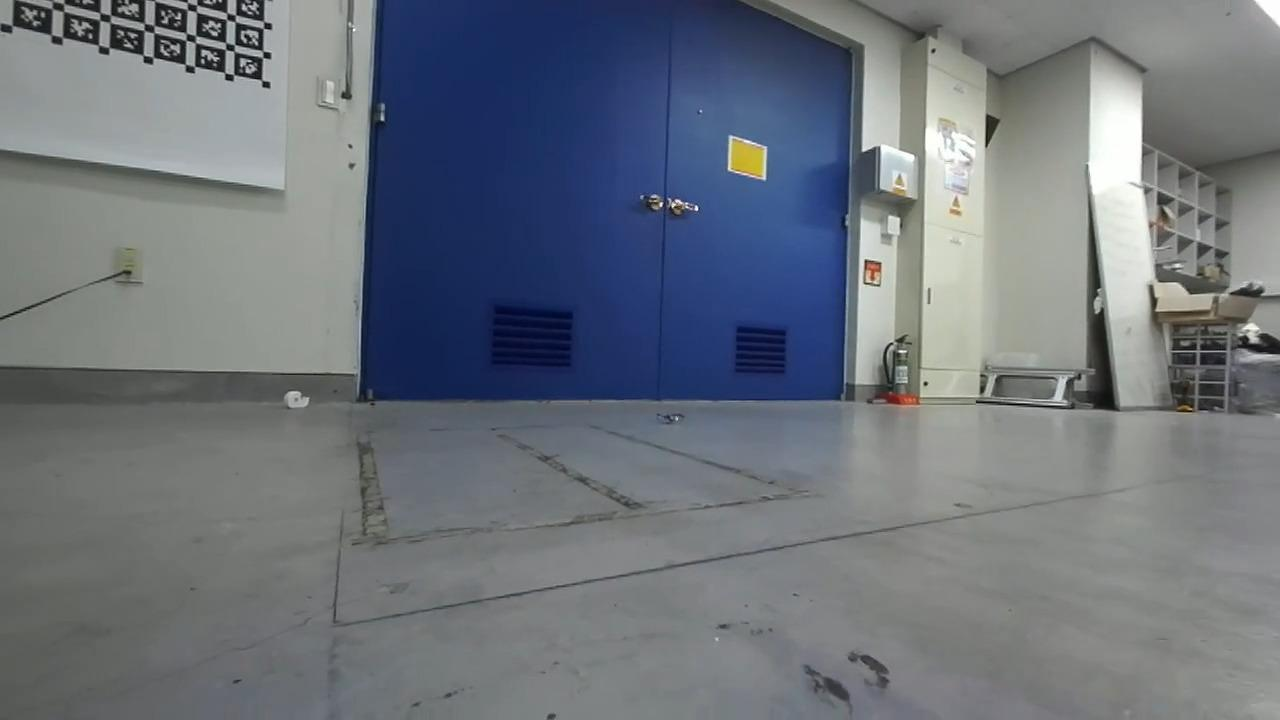crazyflie: (649, 402, 697, 431)
